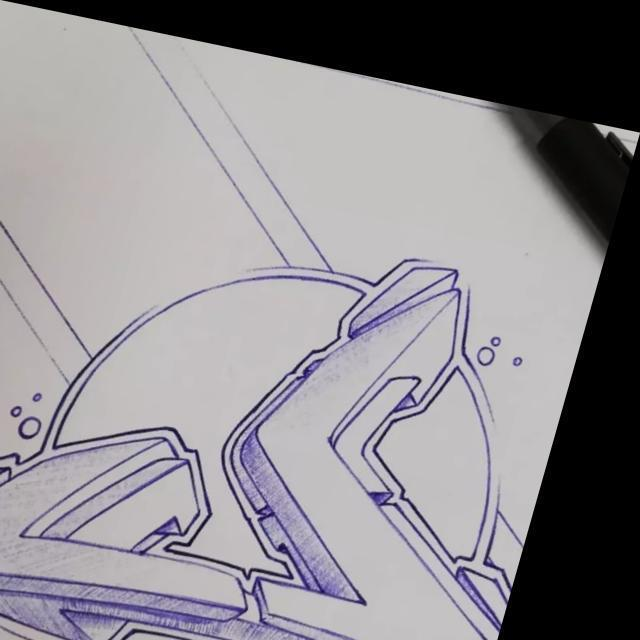-: (0, 152, 607, 640), (428, 605, 520, 640), (0, 605, 44, 640)
